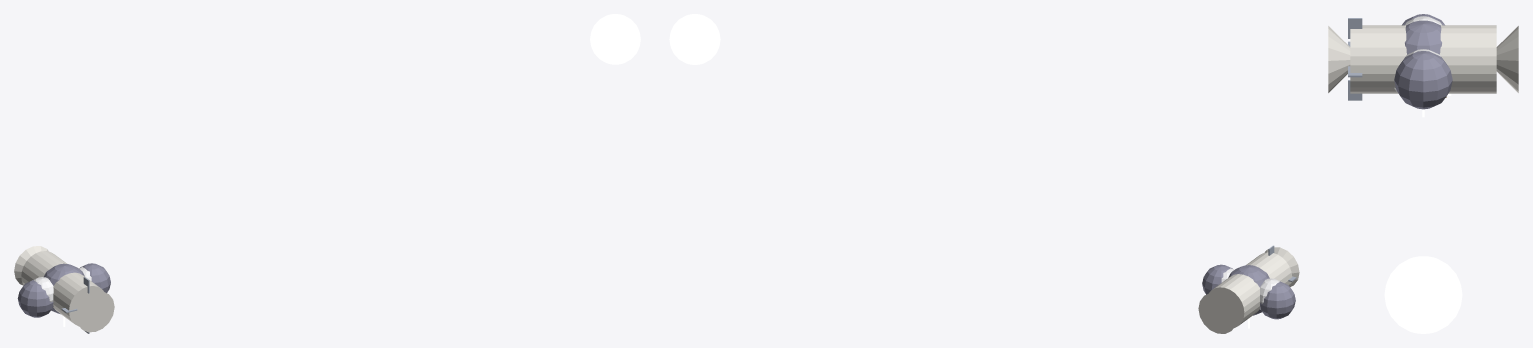
3 views of the same model, side by side, from view 1: azimuth 30°, elevation 25°; view 2: azimuth 150°, elevation 25°; view 3: azimuth 270°, elevation 25° (orthographic). The views are drawn at different scales.
Visible parts, largest first — view 1: airship, sun, storm; view 2: airship, sun, storm; view 3: airship, sun, storm, cloud.
Part boxes in pixels (<box>): airship: <box>14,246,114,333</box>; sun: <box>590,14,640,64</box>; storm: <box>17,263,110,326</box>; airship: <box>1198,245,1299,333</box>; sun: <box>669,14,720,64</box>; storm: <box>1202,264,1295,328</box>; airship: <box>1328,18,1518,100</box>; sun: <box>1384,256,1462,333</box>; storm: <box>1394,14,1452,117</box>; cloud: <box>1394,16,1441,91</box>.
Size of the model in its own units: 22.4 by 6.1 by 3.9.
